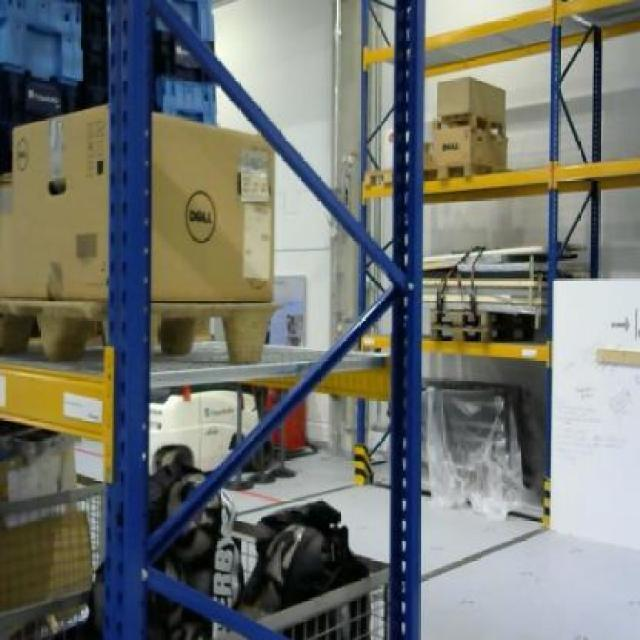box: (7, 102, 272, 301), (431, 129, 506, 169), (437, 78, 505, 120)
